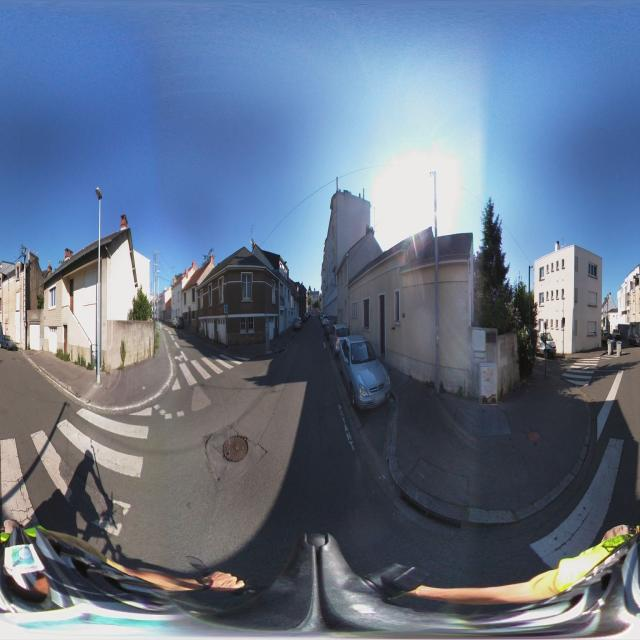car: (338, 334, 392, 414), (330, 323, 350, 353), (535, 331, 557, 358), (292, 317, 302, 331)
